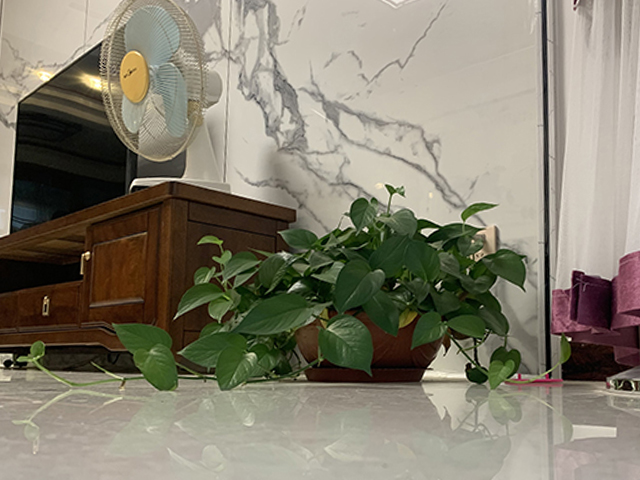cabinet: (1, 180, 296, 375)
